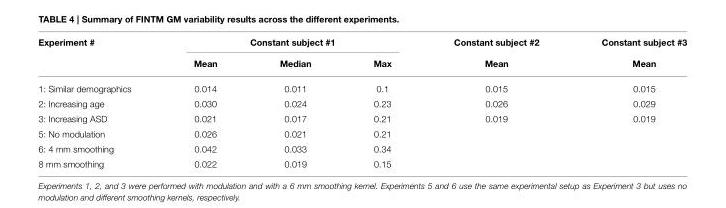table: (37, 37, 686, 168)
table column: (421, 37, 569, 168), (37, 37, 161, 168), (569, 37, 686, 168), (247, 37, 341, 168), (161, 37, 247, 168), (341, 37, 421, 168)
table column header: (37, 37, 686, 76)
table row: (37, 52, 686, 76), (37, 76, 686, 96), (37, 37, 686, 52), (37, 96, 686, 111), (37, 111, 686, 126), (37, 126, 686, 141), (37, 141, 686, 156), (37, 156, 686, 168)
table spanning cell: (421, 37, 569, 76), (37, 37, 161, 76), (569, 37, 686, 76), (161, 37, 421, 52)
